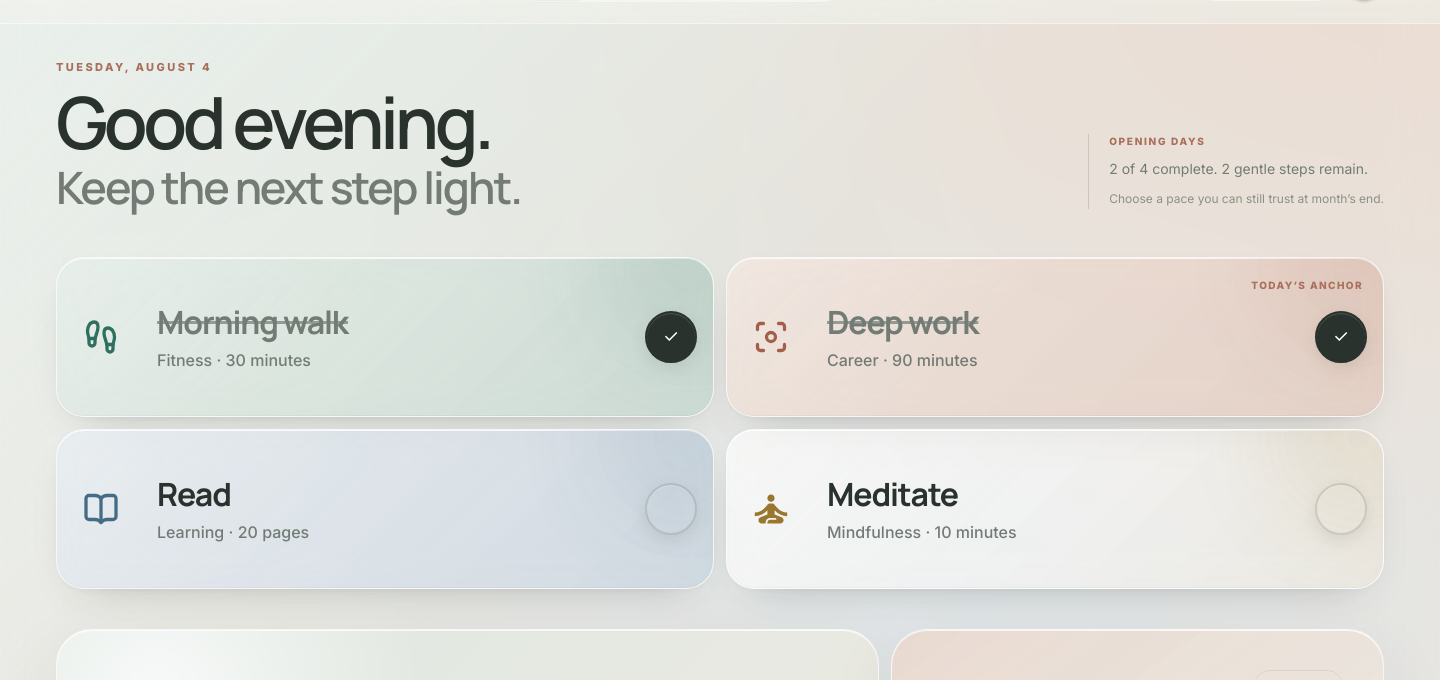
Test: TodayDashboard › updates completion and efficiency when a habit is checked in
The image size is (1440, 680).
Click the button named "Complete Read" at (671, 509), box [645,483,697,535]
(page scrolled)
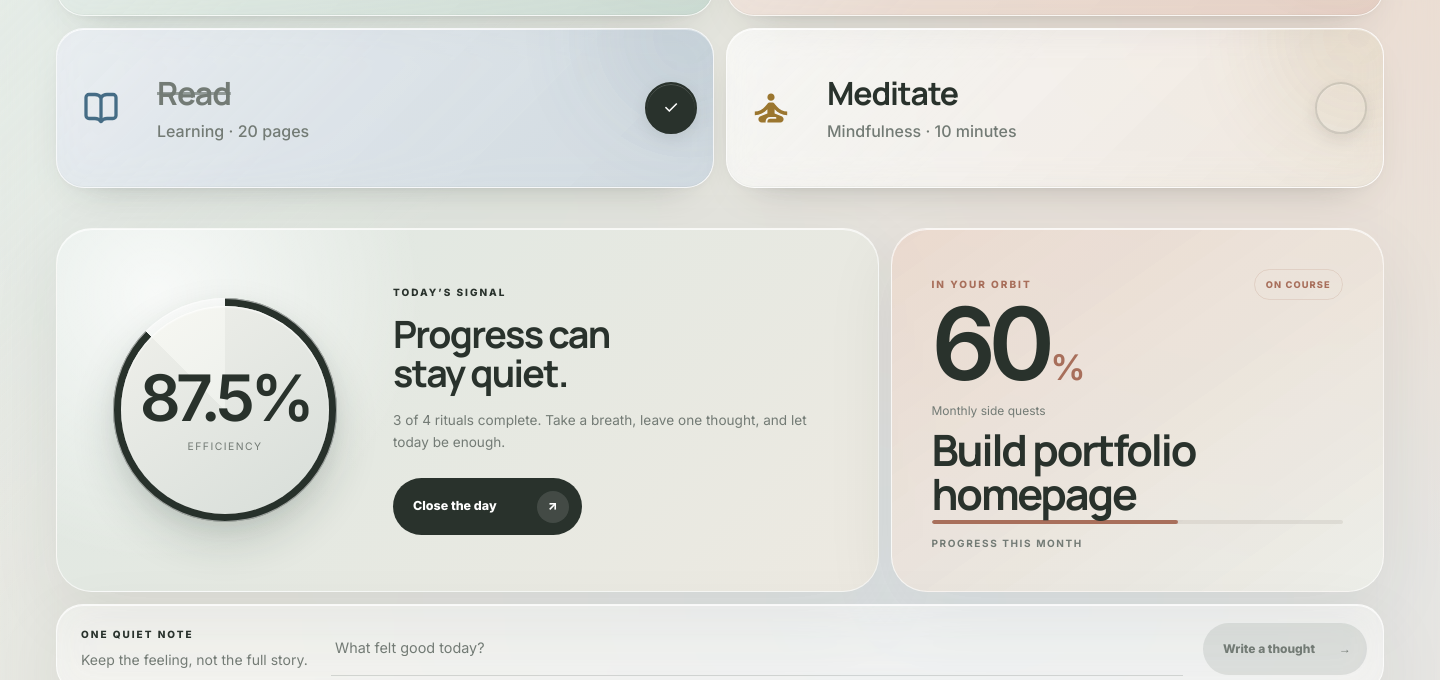
Result: the text "87.5%" is shown at [140,366,310,430]
